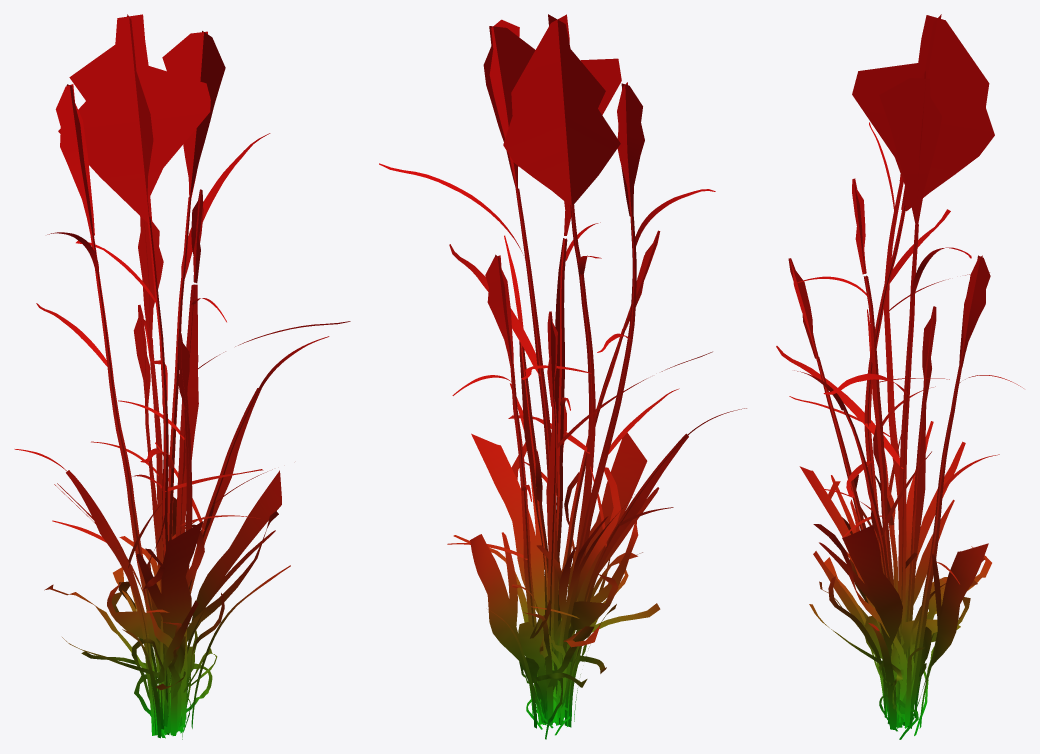
The model's file is sltiN_Var3_LOD0.fbx.
3 views of the same model, side by side, from view 1: azimuth 30°, elevation 25°; view 2: azimuth 150°, elevation 25°; view 3: azimuth 270°, elevation 25° (orthographic). The views are drawn at different scales.
Visible parts, largest first — view 1: _833f_Var3_LOD0; view 2: _833f_Var3_LOD0; view 3: _833f_Var3_LOD0.
Boxes of the visible parts, x1,y1,x2,y2 form: _833f_Var3_LOD0: (14,14,350,739); _833f_Var3_LOD0: (379,14,746,739); _833f_Var3_LOD0: (776,14,1023,739).
Size of the model in its own units: 27.96 by 61.3 by 19.6.
